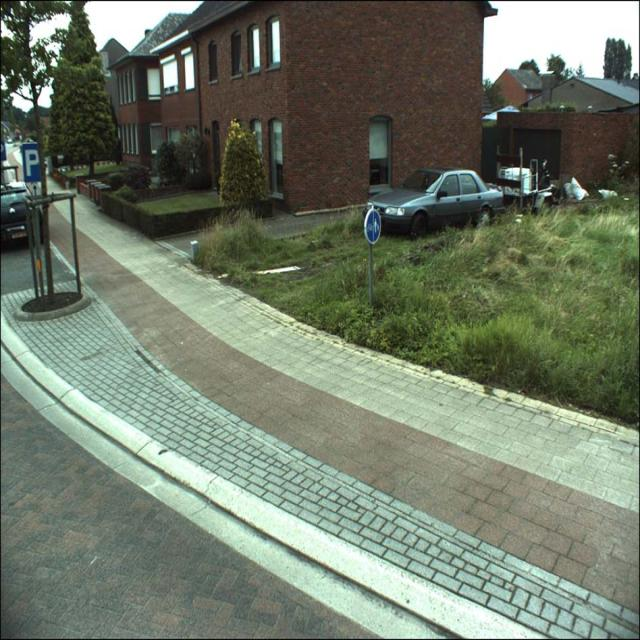park: (21, 143, 43, 185)
